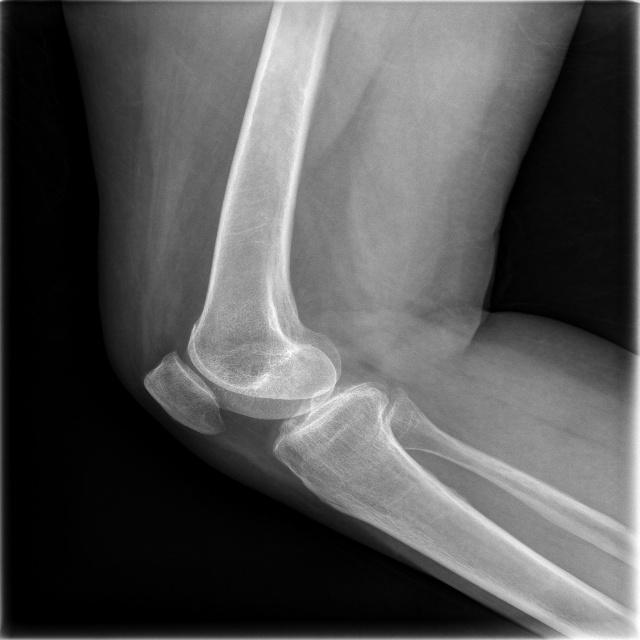Knee: (139, 319, 398, 461)
